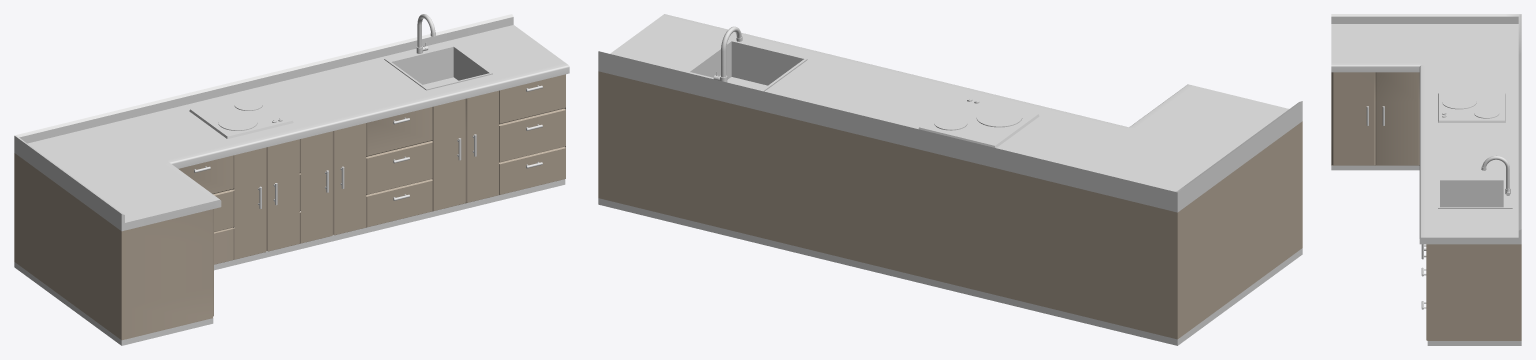
File: Küchentheke.fbx
The picture shows the model from 3 angles, left to right: view 1: azimuth 30°, elevation 25°; view 2: azimuth 150°, elevation 25°; view 3: azimuth 270°, elevation 25°; orthographic projection. The views are drawn at different scales.
Visible parts, largest first — view 1: Cube, Griffe, Cylinder.004; view 2: Cube, Cylinder.004; view 3: Cube, Cylinder.004, Griffe, Cylinder.
Boxes of the visible parts, bbox=[...] form: Cube: bbox=[14, 14, 569, 345]; Griffe: bbox=[194, 85, 542, 208]; Cylinder.004: bbox=[218, 98, 262, 130]; Cube: bbox=[598, 14, 1302, 345]; Cylinder.004: bbox=[934, 107, 1022, 130]; Cube: bbox=[1331, 14, 1521, 345]; Cylinder.004: bbox=[1442, 94, 1499, 118]; Griffe: bbox=[1366, 106, 1426, 309]; Cylinder: bbox=[1481, 155, 1509, 189].
Bounding box in the file's own units: 320 × 102 × 120.
